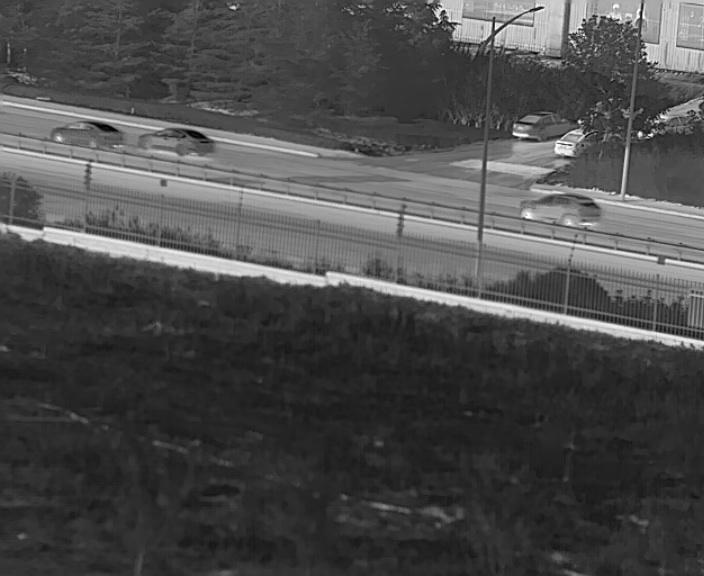vehicle: (520, 191, 602, 226), (50, 119, 123, 150), (139, 125, 213, 155), (510, 112, 565, 142), (554, 131, 590, 158)
